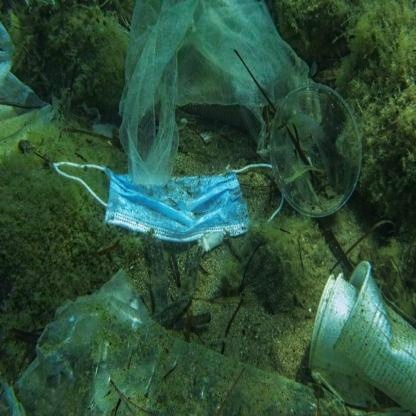Mask: (50, 154, 288, 242)
